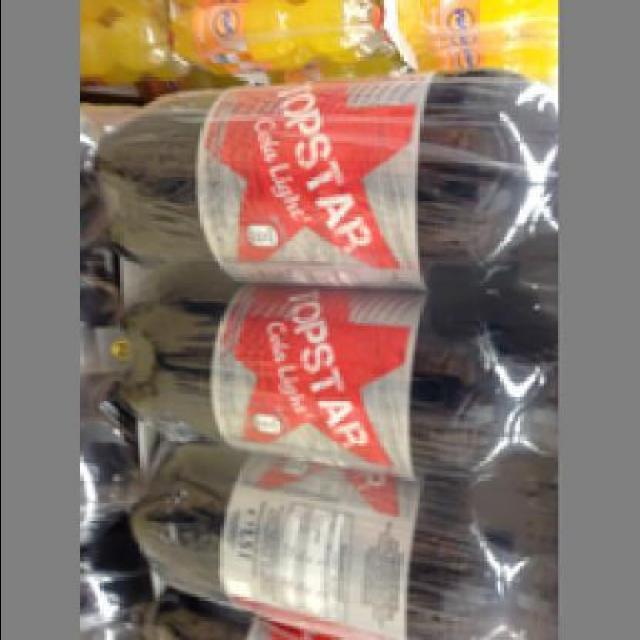Coke: (97, 67, 560, 290), (133, 283, 556, 480), (133, 446, 556, 637)
